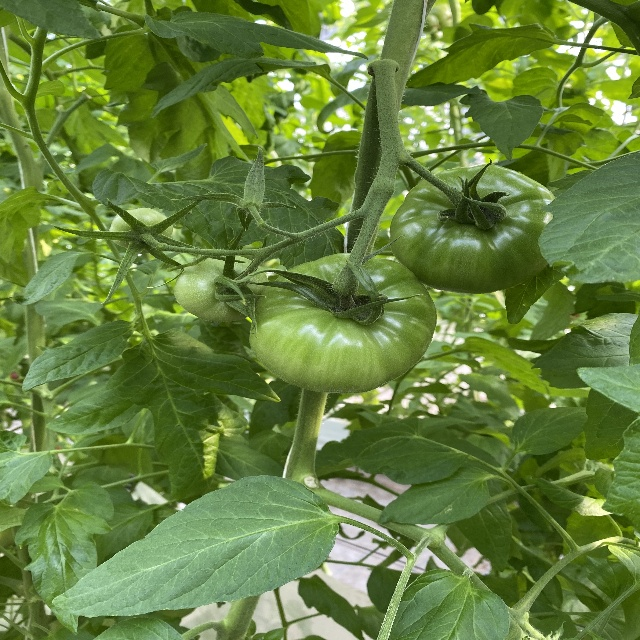b_green: (249, 252, 438, 393), (388, 164, 561, 294), (174, 255, 268, 323), (108, 208, 172, 253)
